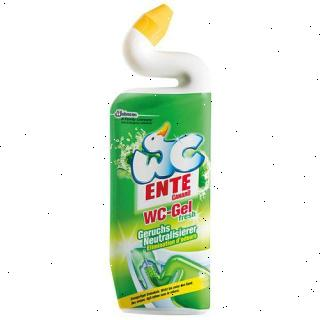Plastic-bottle: (101, 1, 220, 320)
